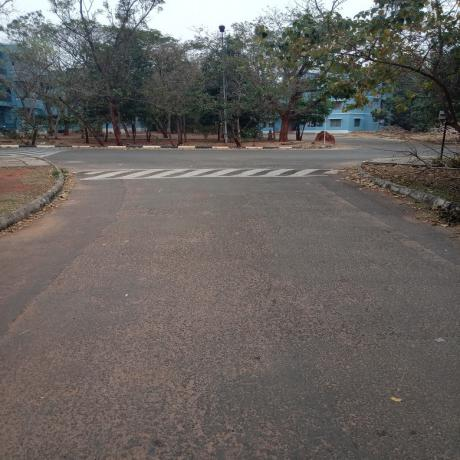Speed Bump: (67, 169, 348, 179)
